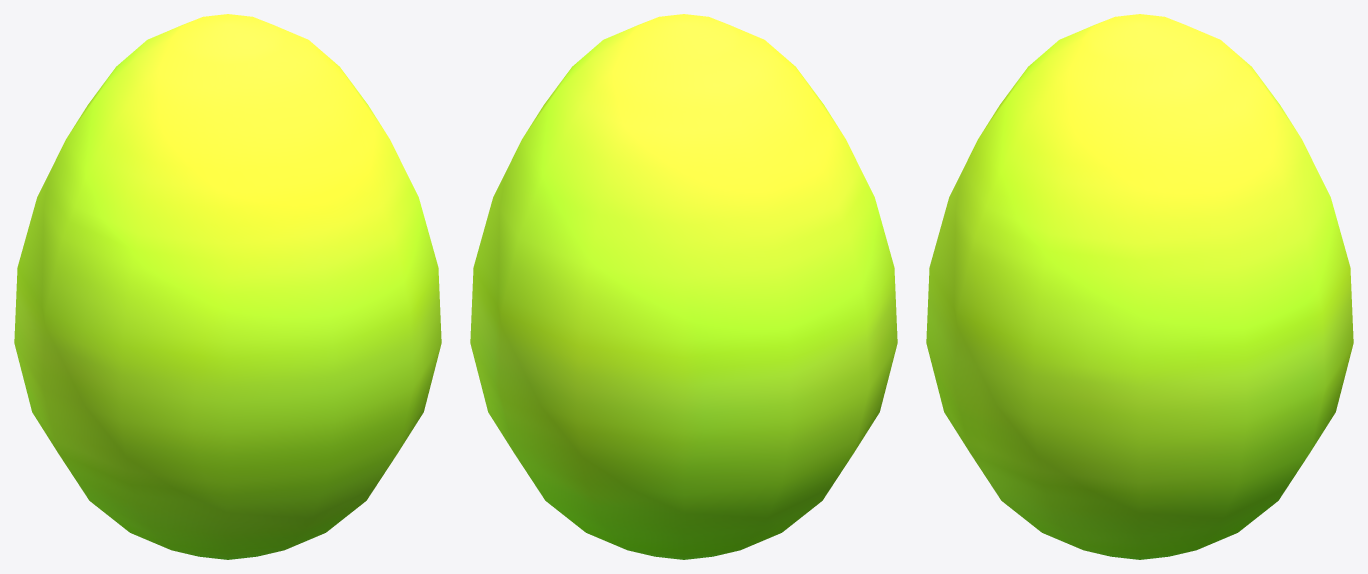
File: EggAlienGreen.glb
3 views of the same model, side by side, from view 1: azimuth 30°, elevation 25°; view 2: azimuth 150°, elevation 25°; view 3: azimuth 270°, elevation 25° (orthographic).
Parts seen in each view (by area): view 1: EggAlienGreen; view 2: EggAlienGreen; view 3: EggAlienGreen.
Part boxes in pixels (<box>): EggAlienGreen: <box>14,14,441,559</box>; EggAlienGreen: <box>470,14,897,559</box>; EggAlienGreen: <box>926,14,1353,559</box>.
Bounding box in the file's own units: 0.9301 × 1.25 × 0.9301.
1 material, 1 textured.
